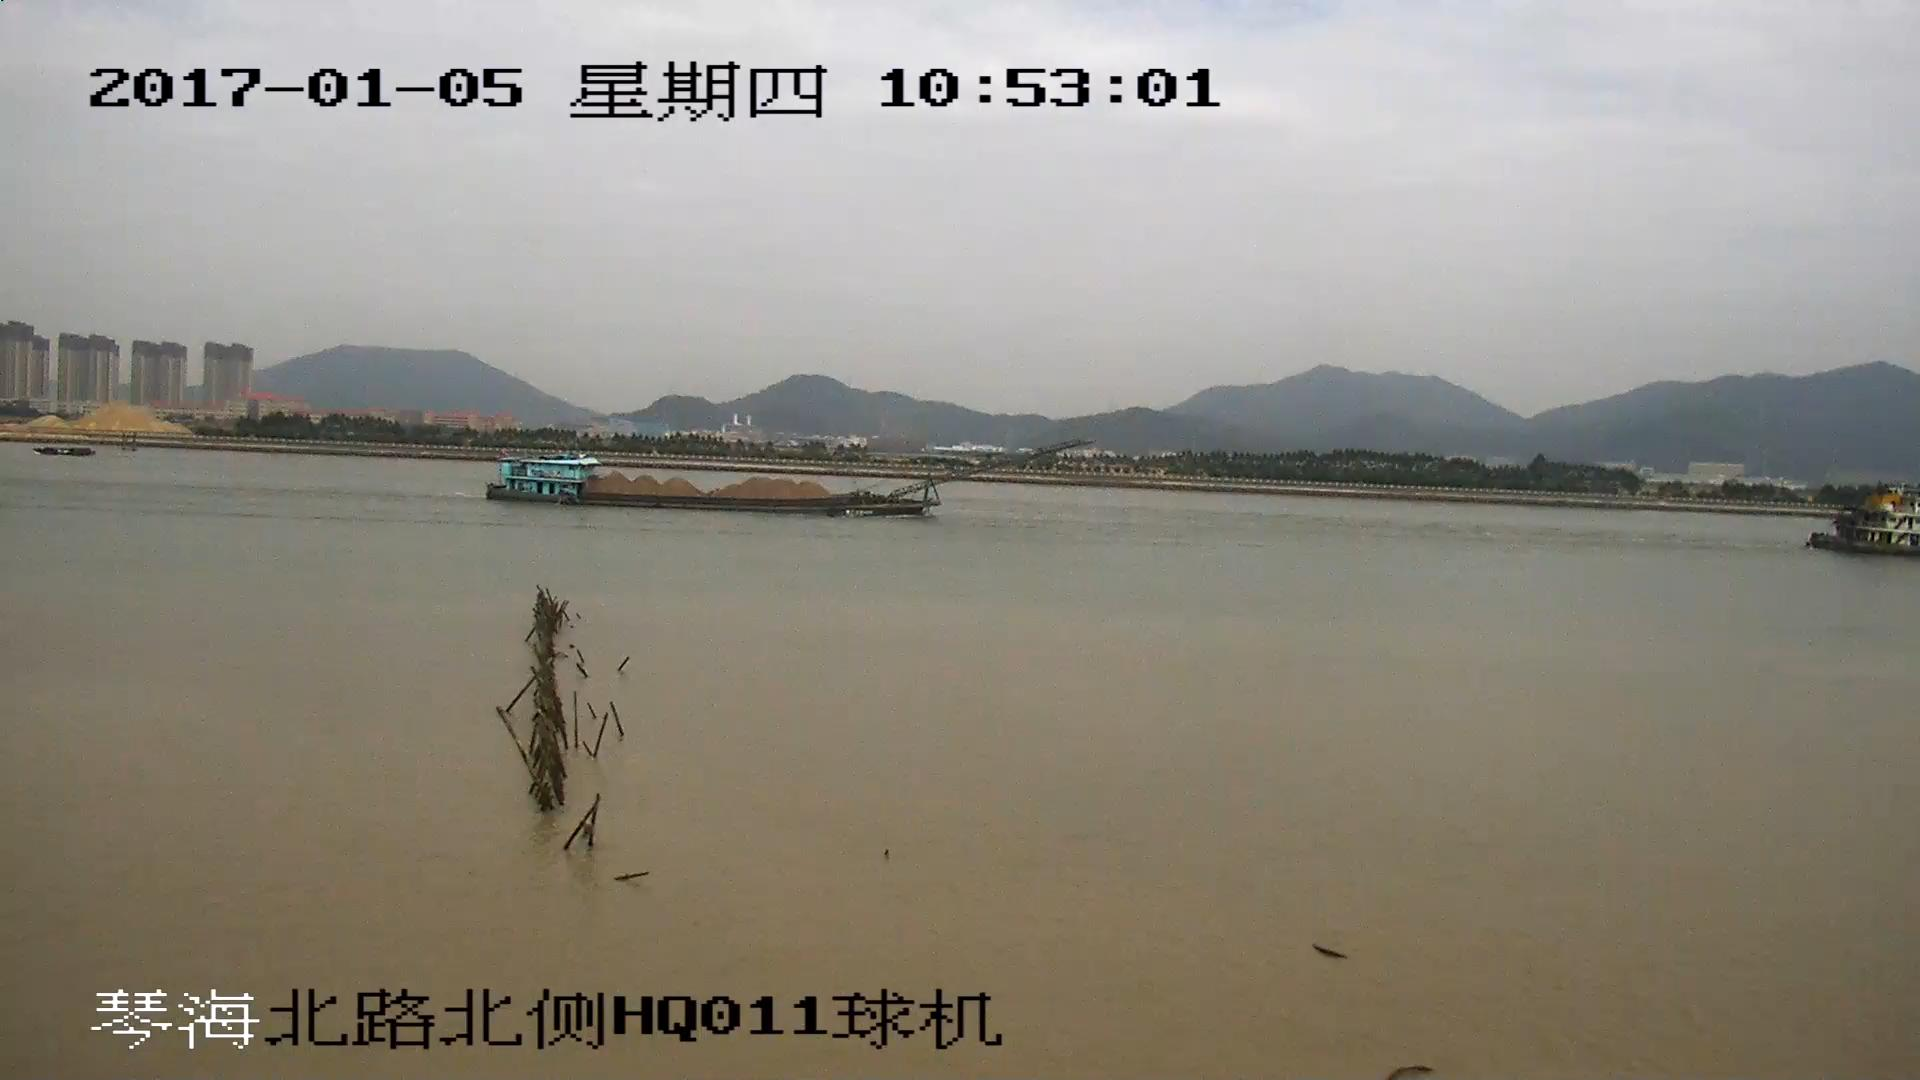ore carrier: (488, 440, 1084, 514)
